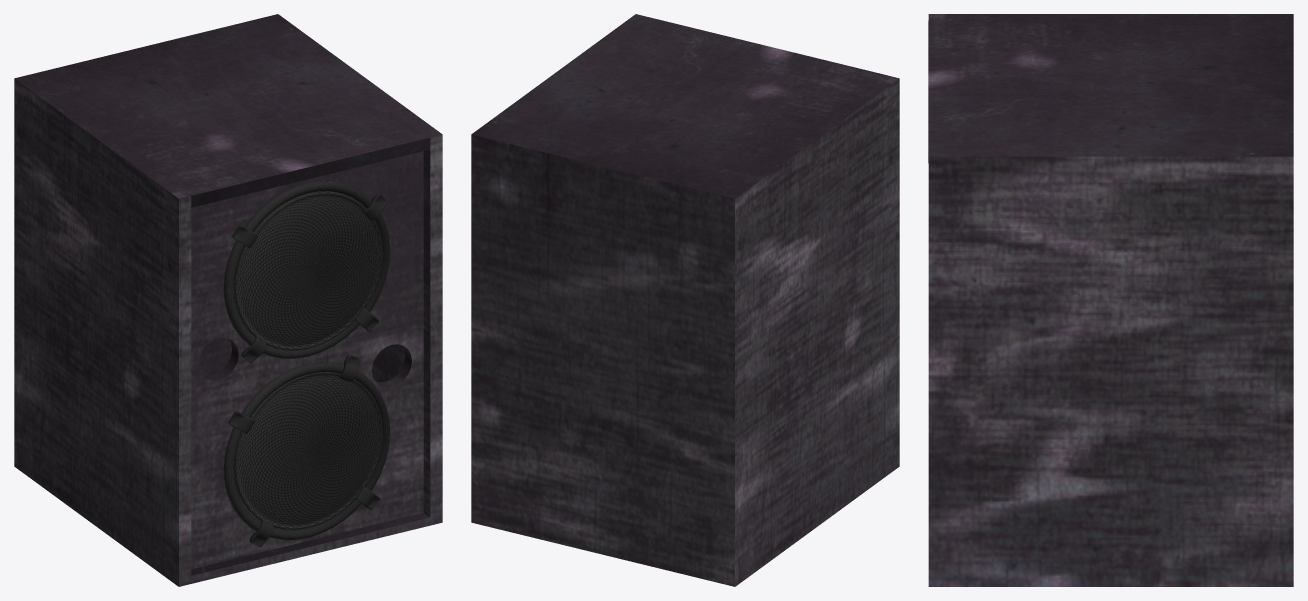
File: Speaker box.fbx
3 renders of one model, left to right at view 1: azimuth 30°, elevation 25°; view 2: azimuth 150°, elevation 25°; view 3: azimuth 270°, elevation 25°, orthographic. The views are drawn at different scales.
Parts seen in each view (by area): view 1: Box, pasted__pSphere3, pasted__pSphere1, pTorus2, pTorus1, pCube13, pCube12; view 2: Box; view 3: Box.
Part boxes in pixels (left/top/right/bottom): Box: left=14, top=14, right=442, bottom=586; pasted__pSphere3: left=234, top=191, right=382, bottom=350; pasted__pSphere1: left=234, top=372, right=382, bottom=529; pTorus2: left=223, top=362, right=390, bottom=539; pTorus1: left=223, top=180, right=390, bottom=358; pCube13: left=229, top=355, right=379, bottom=547; pCube12: left=232, top=193, right=387, bottom=363; Box: left=471, top=14, right=899, bottom=586; Box: left=928, top=14, right=1293, bottom=586.
Size of the model in its own units: 4.58 by 6.44 by 4.95.
